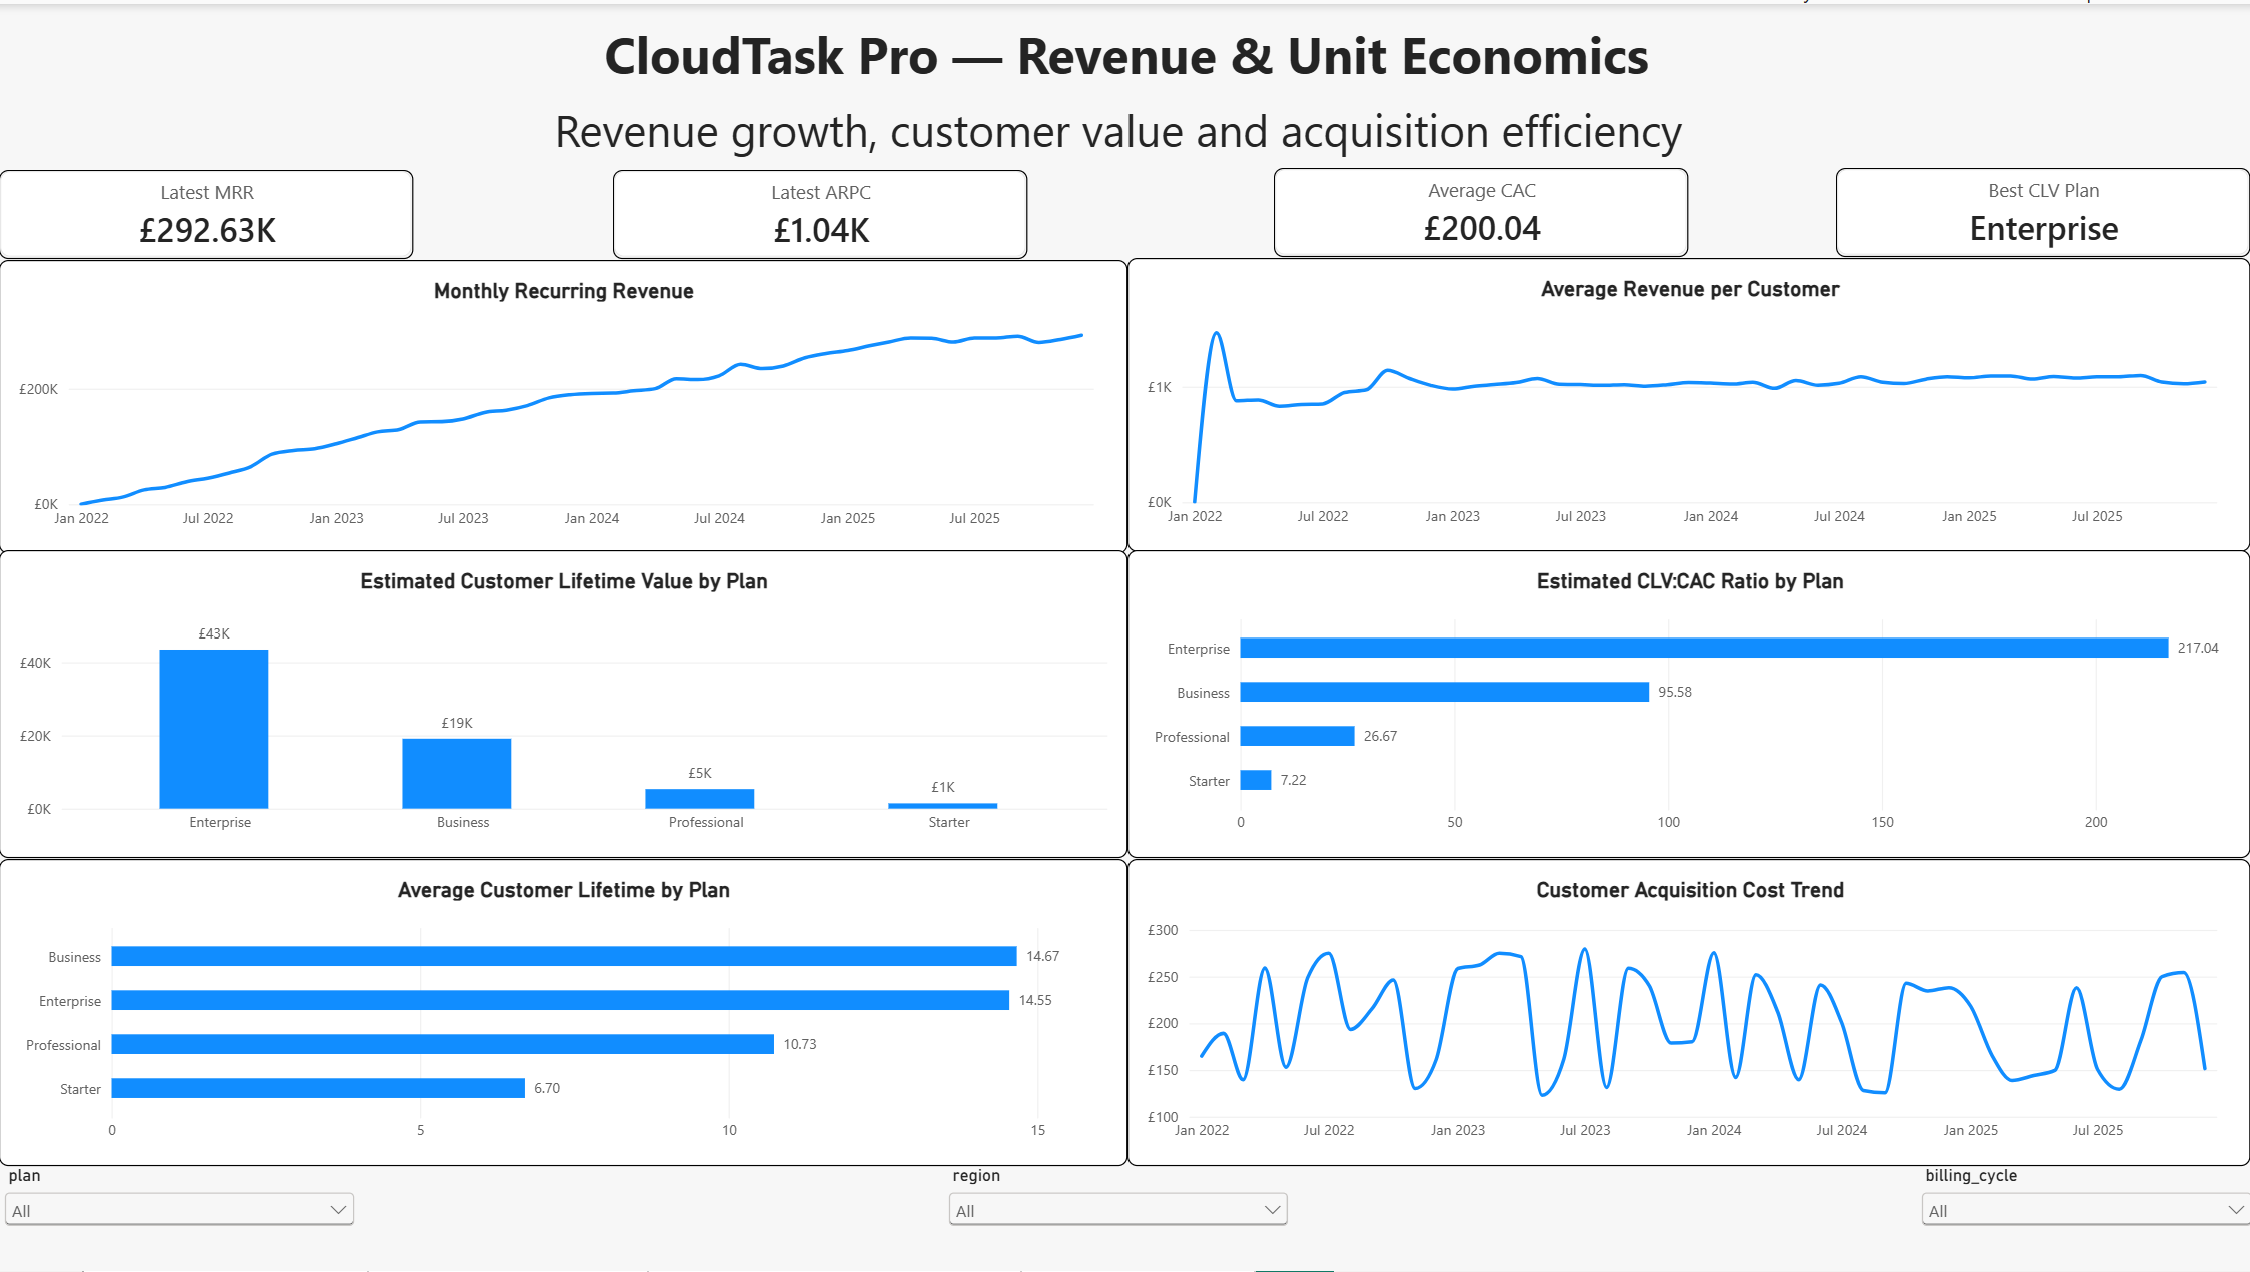

The dashboard page shown, as its layout file describes it:
{"tool":"powerbi","page":{"name":"Revenue & Unit Economics","canvas":[1920,1080],"ordinal":2},"visuals":[{"type":"textbox","box":[960,0,960,121.7],"z":0},{"type":"textbox","box":[149.3,82.7,1612.2,57.4],"z":1},{"type":"textbox","box":[250.3,13.8,1421.6,68.9],"z":3},{"type":"cardVisual","fields":{"Data":["Measures (2).Latest MRR"]},"box":[0,142.4,353.7,75.8],"z":4},{"type":"cardVisual","fields":{"Data":["Measures (2).Latest ARPC"]},"box":[523.6,142.4,353.7,75.8],"z":5},{"type":"cardVisual","fields":{"Data":["Measures (2).Average CAC"]},"box":[1086.3,140.1,353.7,75.8],"z":6},{"type":"cardVisual","fields":{"Data":["Measures (2).Best CLV Plan"]},"box":[1566.3,140.1,353.7,75.8],"z":7},{"type":"lineChart","title":"Monthly Recurring Revenue","fields":{"Category":["monthly_revenue_clean.month.Variation.Date Hierarchy.Year","monthly_revenue_clean.month.Variation.Date Hierarchy.Quarter","monthly_revenue_clean.month.Variation.Date Hierarchy.Month"],"Y":["Sum(monthly_revenue_clean.total_mrr)"]},"box":[0,218.2,962.3,250.3],"z":8},{"type":"lineChart","title":"Average Revenue per Customer","fields":{"Category":["monthly_revenue_clean.month.Variation.Date Hierarchy.Year","monthly_revenue_clean.month.Variation.Date Hierarchy.Month"],"Y":["Avg(monthly_revenue_clean.avg_revenue_per_customer)"]},"box":[962.3,215.9,957.7,250.3],"z":9},{"type":"clusteredColumnChart","title":"Estimated Customer Lifetime Value by Plan","fields":{"Category":["subscriptions_cleaned.plan"],"Y":["Measures (2).Estimated CLV"]},"box":[0,466.2,962.3,261.8],"z":10},{"type":"barChart","title":"Estimated CLV:CAC Ratio by Plan","fields":{"Category":["subscriptions_cleaned.plan"],"Y":["Measures (2).CLV CAC Ratio"]},"box":[962.3,466.2,957.7,261.8],"z":11},{"type":"barChart","title":"Average Customer Lifetime by Plan","fields":{"Category":["subscriptions_cleaned.plan"],"Y":["Measures (2).Average Customer Lifetime (Months)"]},"box":[0,728,962.3,261.8],"z":12},{"type":"lineChart","title":"Customer Acquisition Cost Trend","fields":{"Category":["monthly_revenue_clean.month.Variation.Date Hierarchy.Year","monthly_revenue_clean.month.Variation.Date Hierarchy.Month"],"Y":["Avg(monthly_revenue_clean.customer_acquisition_cost)"]},"box":[962.3,728,957.7,261.8],"z":13},{"type":"slicer","fields":{"Values":["subscriptions_cleaned.plan"]},"box":[0,989.9,307.8,89.6],"z":14},{"type":"slicer","fields":{"Values":["subscriptions_cleaned.region"]},"box":[806.1,989.9,298.6,91.9],"z":15},{"type":"slicer","fields":{"Values":["subscriptions_cleaned.billing_cycle"]},"box":[1635.2,989.9,291.7,91.9],"z":16}]}

Visuals, with their boxes in screenshot pixels (x1, y1, x2, y2), scaled from the page's 1920x1080 canvas onto the 2250x1272 screenshot:
textbox: rect(1125, 0, 2249, 143)
textbox: rect(175, 97, 2064, 165)
textbox: rect(293, 16, 1959, 97)
cardVisual - Measures (2).Latest MRR: rect(0, 168, 414, 257)
cardVisual - Measures (2).Latest ARPC: rect(614, 168, 1028, 257)
cardVisual - Measures (2).Average CAC: rect(1273, 165, 1688, 254)
cardVisual - Measures (2).Best CLV Plan: rect(1836, 165, 2249, 254)
"Monthly Recurring Revenue" lineChart: rect(0, 257, 1128, 552)
"Average Revenue per Customer" lineChart: rect(1128, 254, 2249, 549)
"Estimated Customer Lifetime Value by Plan" clusteredColumnChart: rect(0, 549, 1128, 857)
"Estimated CLV:CAC Ratio by Plan" barChart: rect(1128, 549, 2249, 857)
"Average Customer Lifetime by Plan" barChart: rect(0, 857, 1128, 1166)
"Customer Acquisition Cost Trend" lineChart: rect(1128, 857, 2249, 1166)
slicer - subscriptions_cleaned.plan: rect(0, 1166, 361, 1271)
slicer - subscriptions_cleaned.region: rect(945, 1166, 1295, 1271)
slicer - subscriptions_cleaned.billing_cycle: rect(1916, 1166, 2249, 1271)
